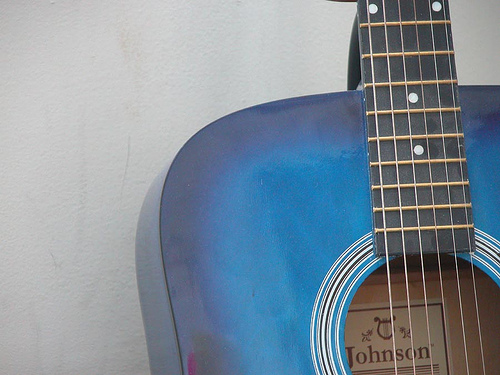guitar: (129, 1, 500, 375)
